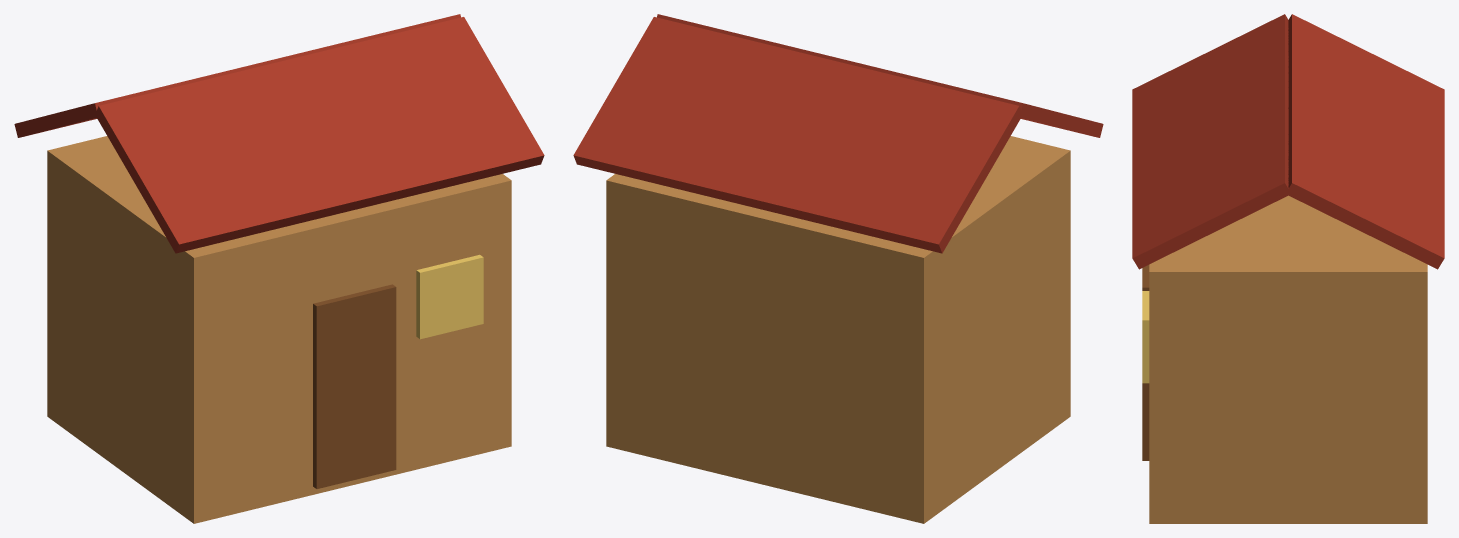
The model's file is garden2_garden_shed.glb.
The picture shows the model from 3 angles, left to right: view 1: azimuth 30°, elevation 25°; view 2: azimuth 150°, elevation 25°; view 3: azimuth 270°, elevation 25°; orthographic projection. The views are drawn at different scales.
Parts seen in each view (by area): view 1: garden_shed; view 2: garden_shed; view 3: garden_shed.
Part boxes in pixels (x1,y1,x2,y2): garden_shed: [14, 14, 544, 523]; garden_shed: [573, 14, 1103, 523]; garden_shed: [1132, 14, 1444, 523].
Bounding box in the file's own units: 1.15 × 1.12 × 0.898.
